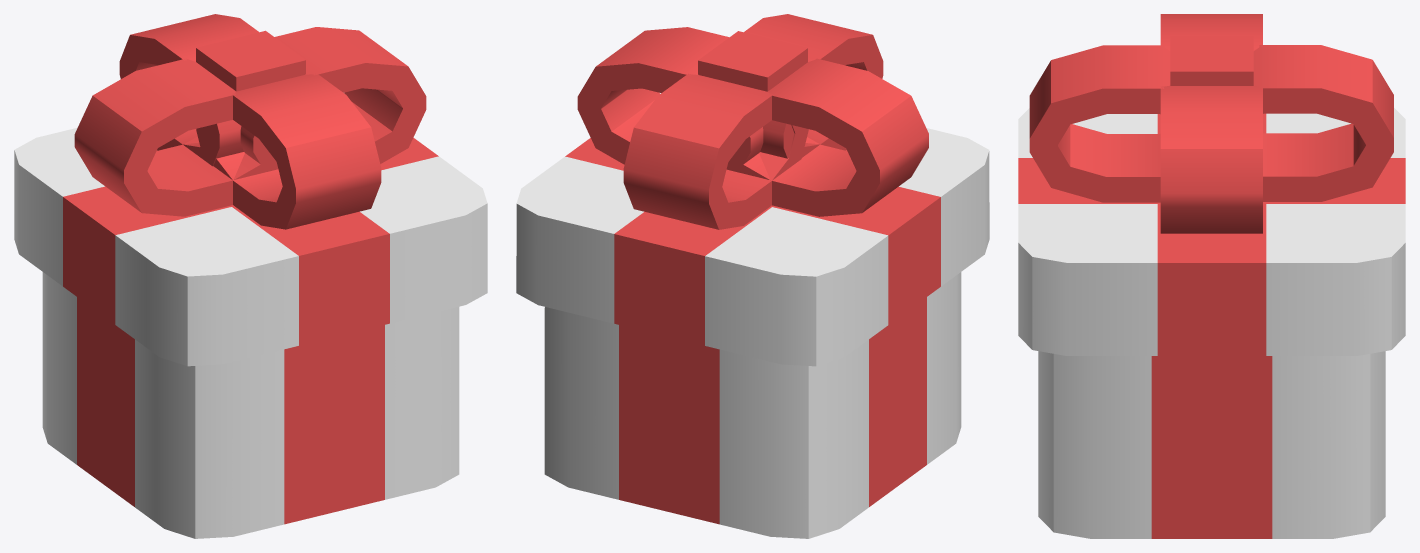
The model's file is Present_C.fbx.
The picture shows the model from 3 angles, left to right: view 1: azimuth 30°, elevation 25°; view 2: azimuth 150°, elevation 25°; view 3: azimuth 270°, elevation 25°; orthographic projection. The views are drawn at different scales.
Visible parts, largest first — view 1: Present_C; view 2: Present_C; view 3: Present_C.
Part boxes in pixels (box(x1,y1,x2,y2)): Present_C: box(14, 14, 487, 538); Present_C: box(516, 14, 989, 538); Present_C: box(1018, 14, 1405, 538).
Bounding box in the file's own units: 123 × 145 × 123.
